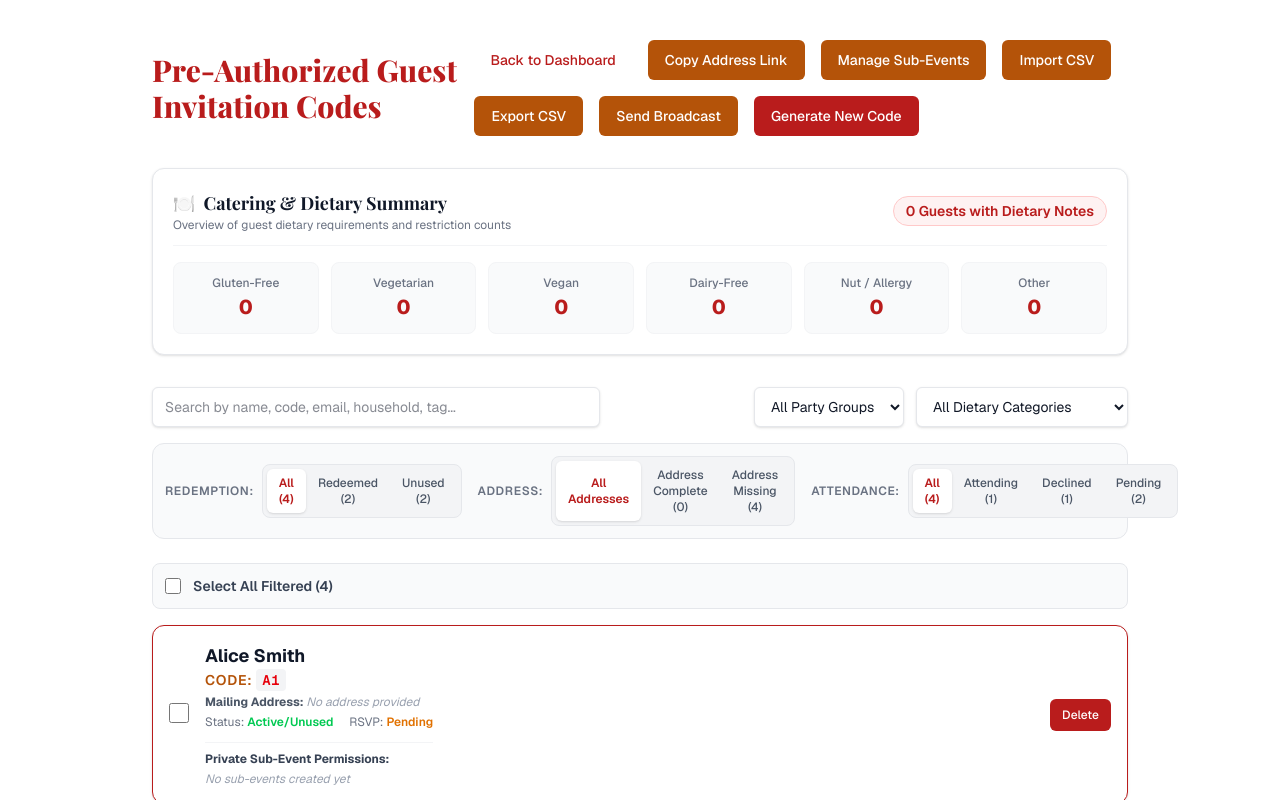
Test: InvitationCodesDashboardPage › filters codes by RSVP attendance filter tabs (All, Attending, Declined, Pending)
This screenshot has width=1280, height=800.
Click Attending tab
Click the button "Attending (1)" at point(991, 491), box [952,469,1030,513]
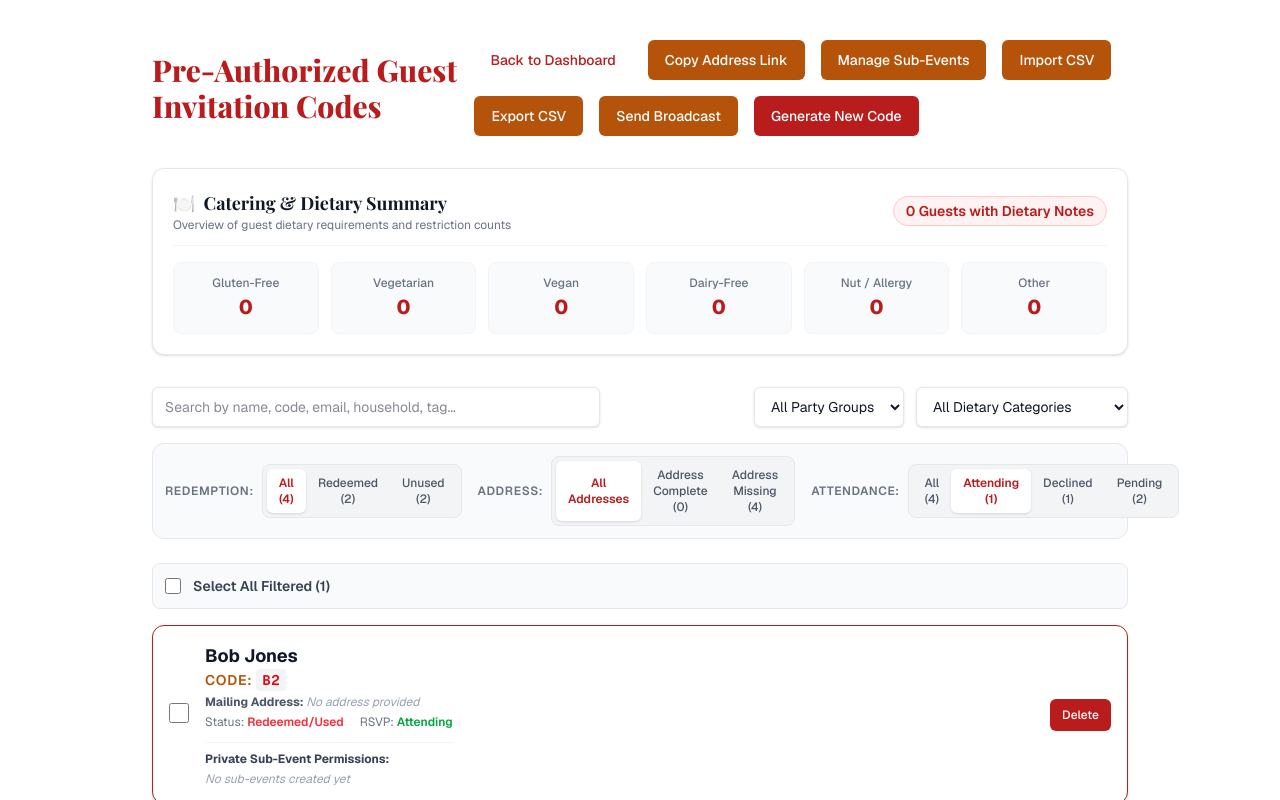
Expected: the text "Bob Jones" is shown, [205,642,298,670]
Expected: the text "Alice Smith" is gone
Click Declined tab
Click the button "Declined (1)" at point(1068, 491), box [1031,469,1105,513]
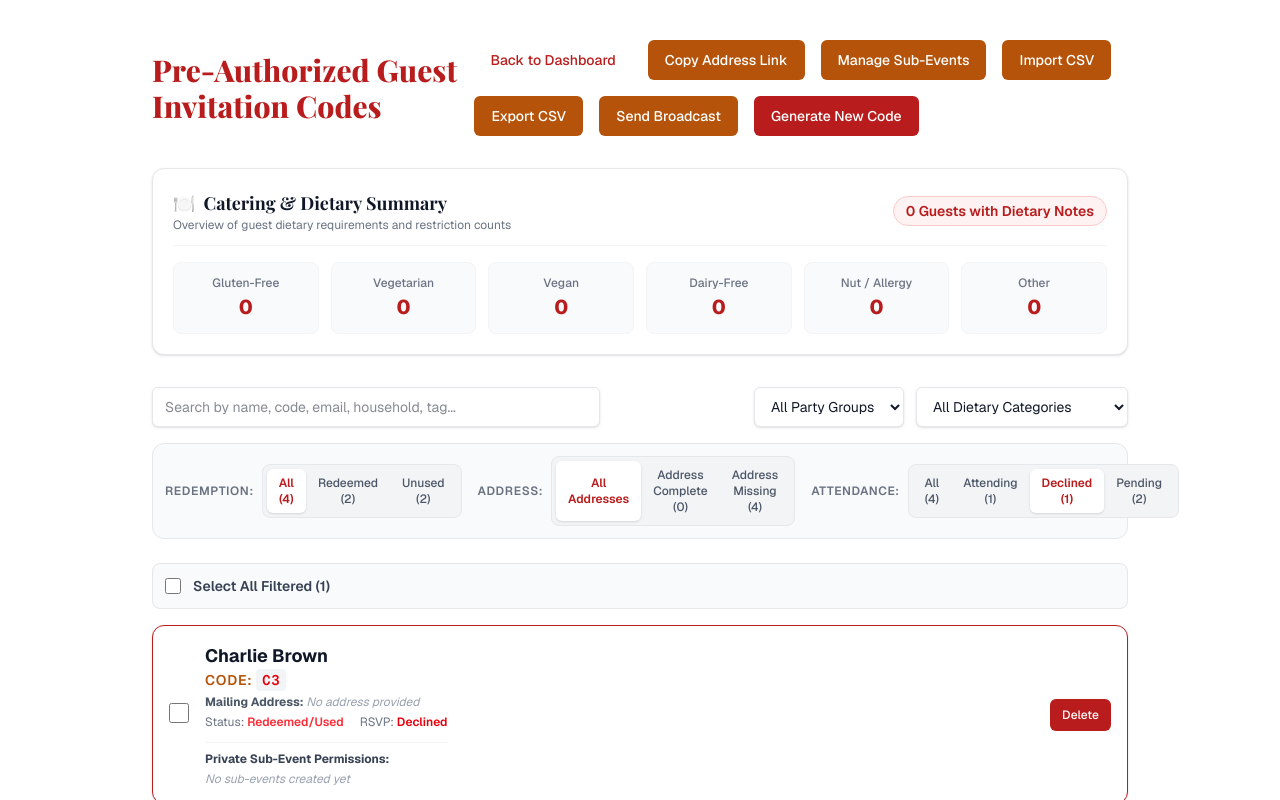
Expected: the text "Alice Smith" is not shown
Expected: the text "Bob Jones" is gone
Expected: the text "Charlie Brown" is shown, [205,642,328,670]
Click Pending tab
Click the button "Pending (2)" at point(1139, 491), box [1104,469,1174,513]
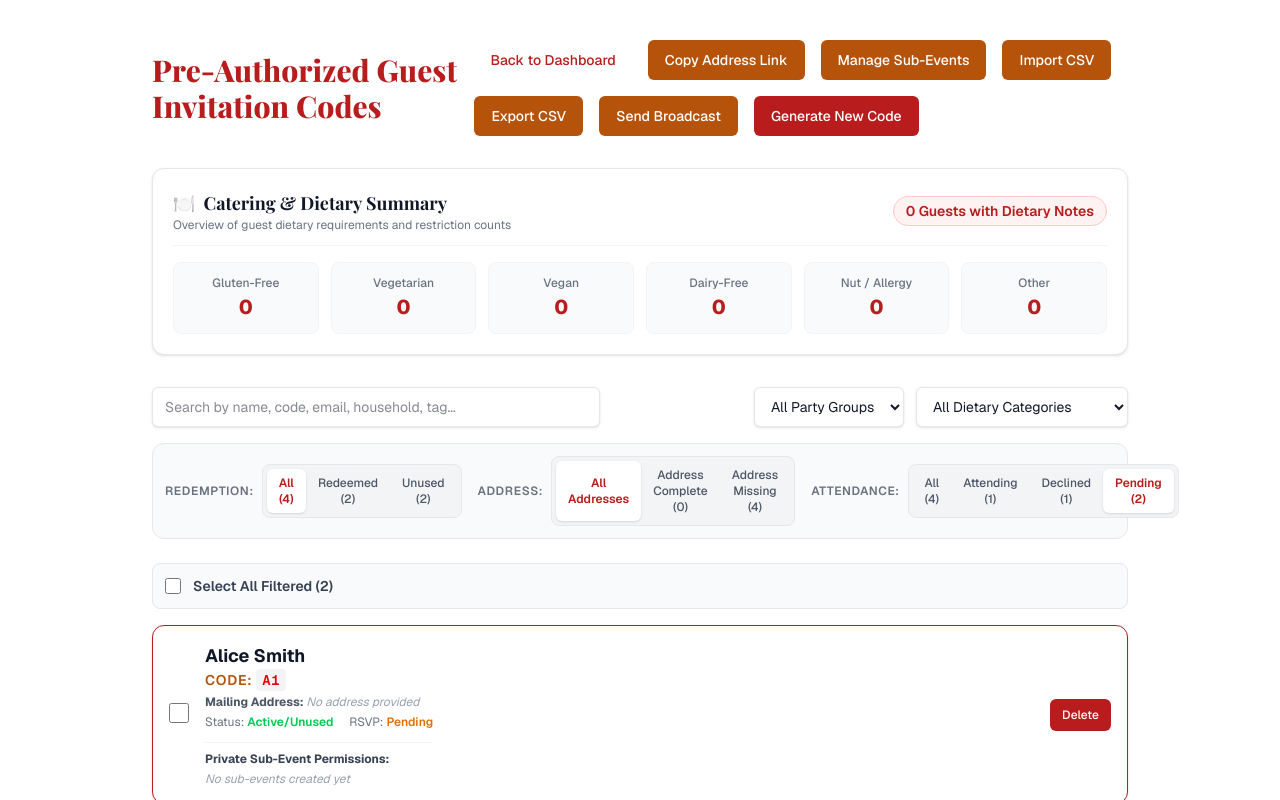
Expected: the text "Bob Jones" is not shown
Expected: the text "Alice Smith" is shown, [205,642,305,670]
Expected: the text "Charlie Brown" is gone
Click All Attendance tab
Click the button with aria-label "All attendance (4)" at point(932, 491), box [913,469,951,513]
(page scrolled)
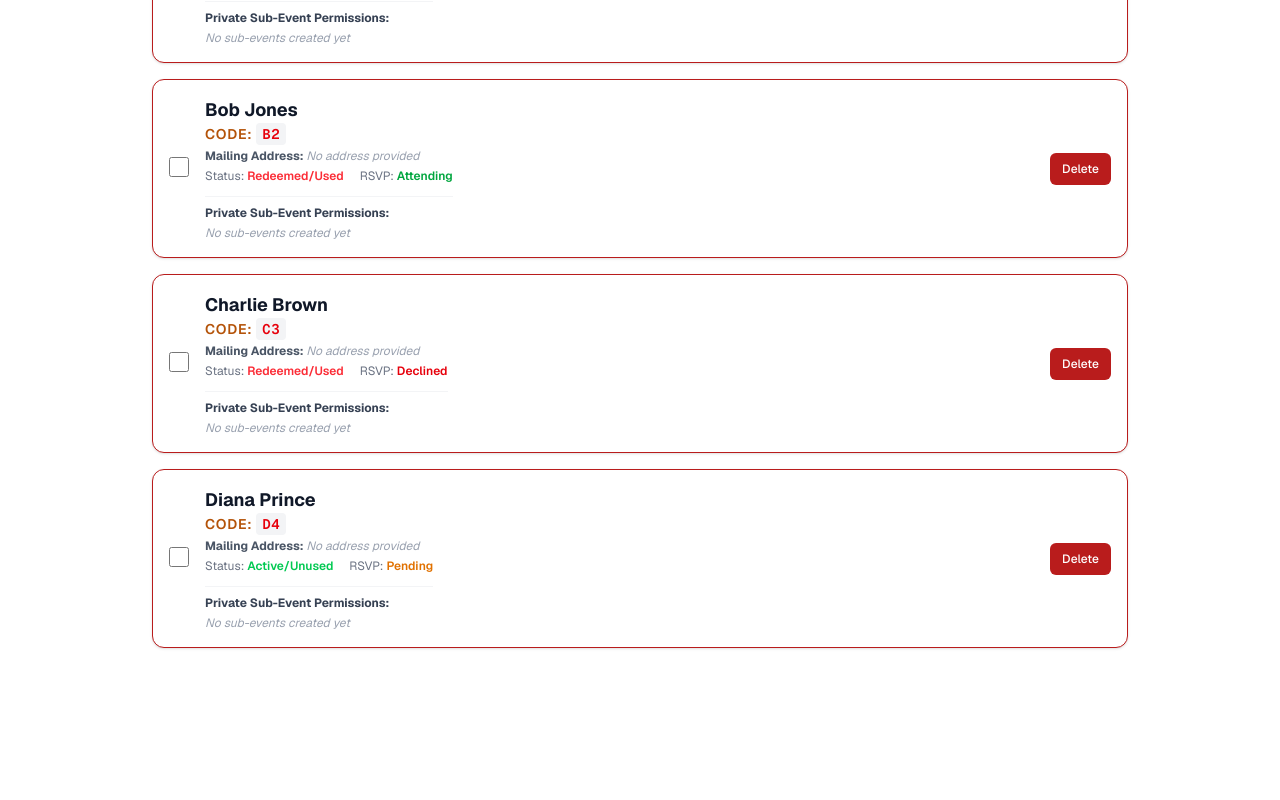
Expected: the text "Diana Prince" is shown, [205,486,316,514]
Expected: the text "Bob Jones" is shown, [205,96,298,124]
Expected: the text "Charlie Brown" is shown, [205,291,328,319]
